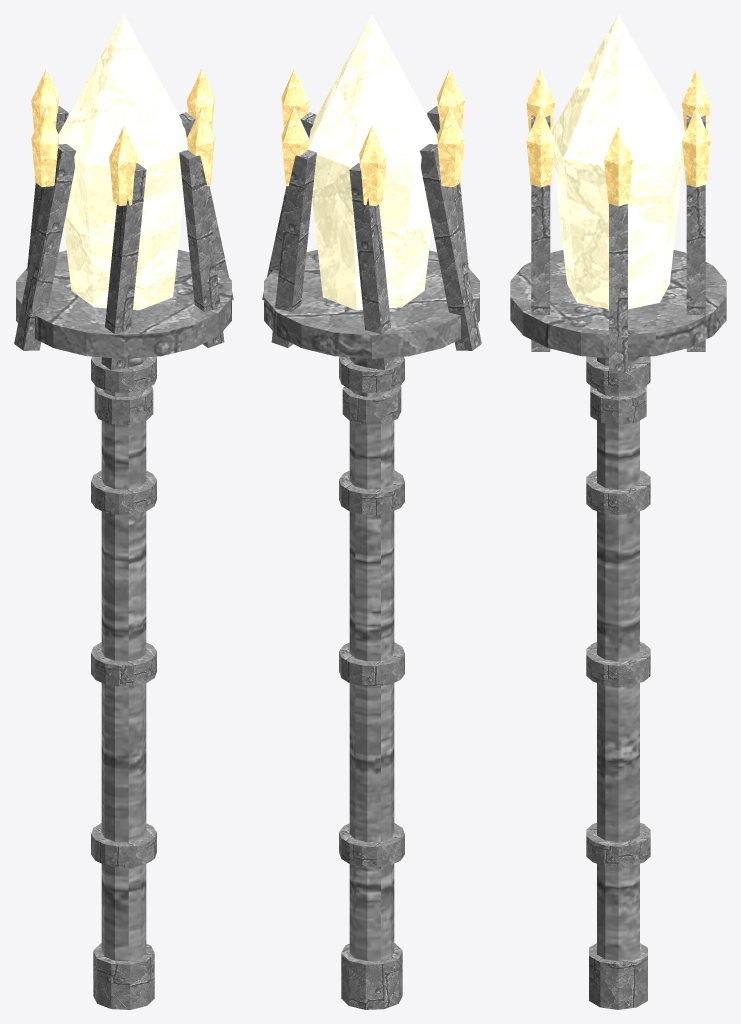
The model's file is Magenheim_Staff_Fire_Master.glb.
The picture shows the model from 3 angles, left to right: view 1: azimuth 30°, elevation 25°; view 2: azimuth 150°, elevation 25°; view 3: azimuth 270°, elevation 25°; orthographic projection.
Visible parts, largest first — view 1: master-core, shaft, crown-halo, crown-rib-3, crown-rib-1, crown-rib-2, pommel, shaft-band--0.48, shaft-band--0.08, shaft-band-0.3, neck-band, shaft-band-0.57 (+7 smaller); view 2: master-core, shaft, crown-halo, crown-rib-3, crown-rib-5, crown-rib-4, pommel, shaft-band--0.48, shaft-band--0.08, shaft-band-0.3, neck-band, shaft-band-0.57 (+7 smaller); view 3: master-core, shaft, crown-halo, crown-rib-0, pommel, crown-rib-1, crown-rib-5, shaft-band--0.48, shaft-band--0.08, shaft-band-0.3, neck-band, shaft-band-0.57 (+5 smaller).
Boxes of the visible parts, x1,y1,x2,y2 form: master-core: (58,14,187,310); shaft: (101,357,146,961); crown-halo: (16,249,231,358); crown-rib-3: (14,144,76,350); crown-rib-1: (179,149,224,347); crown-rib-2: (101,163,146,369); pommel: (93,943,154,1009); shaft-band--0.48: (91,823,156,867); shaft-band--0.08: (91,642,156,686); shaft-band-0.3: (91,470,156,514); neck-band: (94,386,153,424); shaft-band-0.57: (91,356,156,392); master-core: (308,14,437,310); shaft: (349,357,394,961); crown-halo: (264,249,479,358); crown-rib-3: (419,144,481,350); crown-rib-5: (271,149,316,347); crown-rib-4: (349,163,394,369); pommel: (341,943,402,1009); shaft-band--0.48: (339,823,404,867); shaft-band--0.08: (339,642,404,686); shaft-band-0.3: (339,470,404,514); neck-band: (342,386,401,424); shaft-band-0.57: (339,356,404,392); master-core: (551,14,685,309); shaft: (597,357,639,960); crown-halo: (510,250,726,357); crown-rib-0: (609,203,627,372); pommel: (589,943,647,1009); crown-rib-1: (531,184,550,351); crown-rib-5: (686,184,705,351); shaft-band--0.48: (586,823,650,867); shaft-band--0.08: (586,642,650,686); shaft-band-0.3: (586,470,650,514); neck-band: (590,386,646,424); shaft-band-0.57: (586,356,650,392).
Bounding box in the file's own units: 0.4866 × 2.17 × 0.4333.
Materials: 4 (4 with a texture image).
